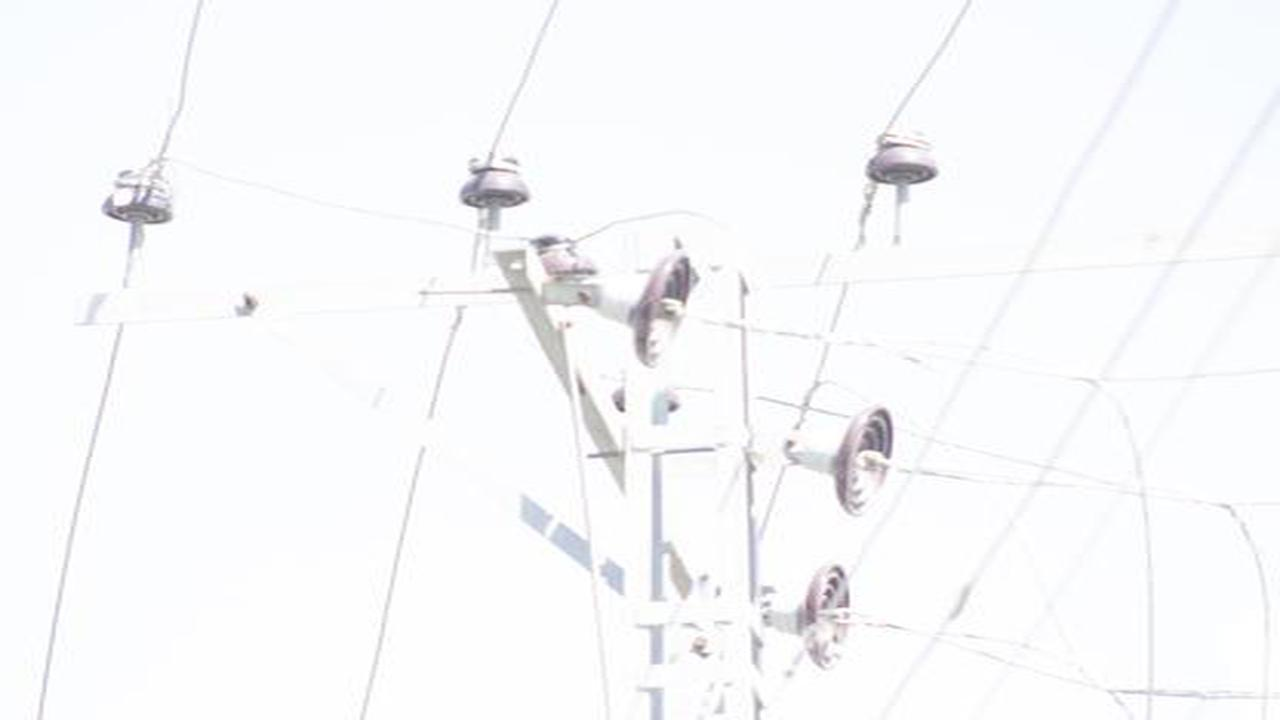insulator_disc: (810, 399, 897, 512), (628, 251, 694, 363), (788, 565, 856, 664)
insulator_pin: (455, 150, 539, 217), (861, 126, 943, 193), (101, 161, 179, 228), (536, 233, 600, 285)
